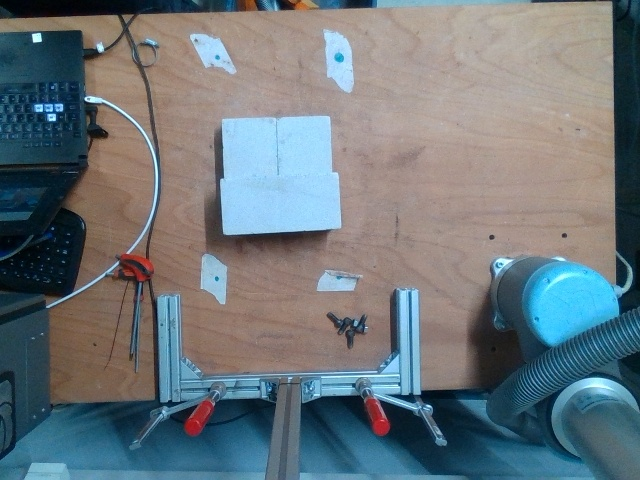brick: (219, 170, 340, 235)
